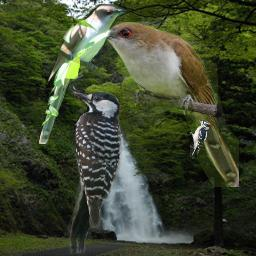Cuckoo: (84, 22, 239, 187), (38, 4, 130, 144)
Woodpecker: (67, 87, 125, 254), (190, 119, 211, 159)
